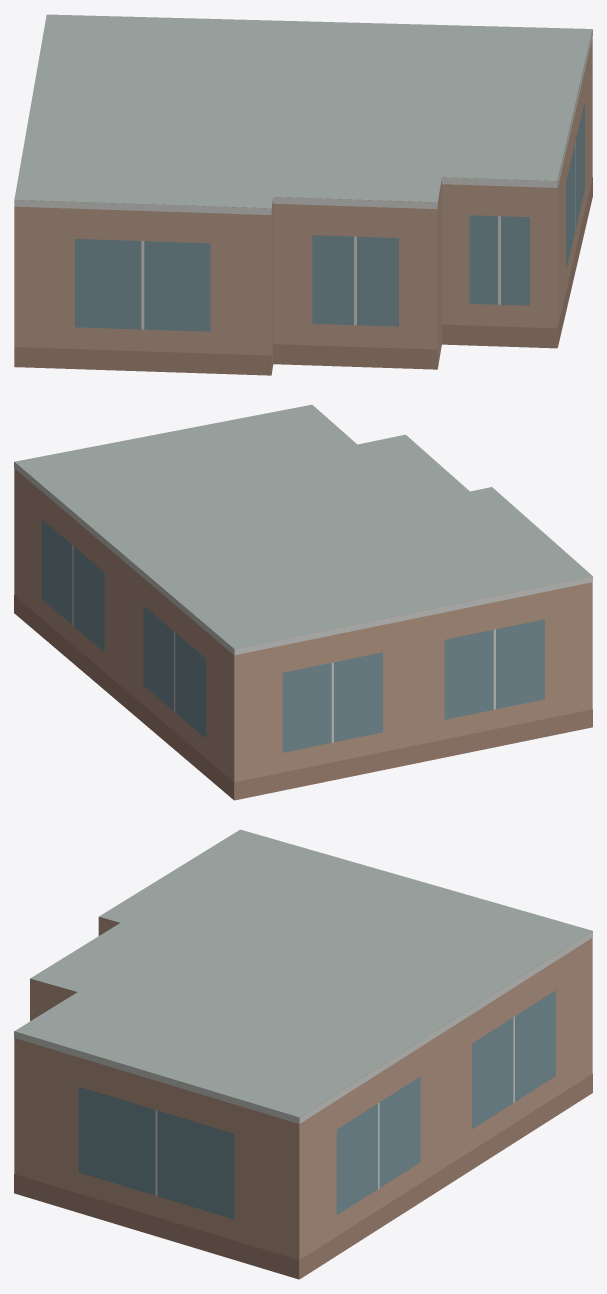
File: survey-upis-32830492.glb
3 renders of one model, top to bottom at view 1: azimuth 30°, elevation 25°; view 2: azimuth 150°, elevation 25°; view 3: azimuth 270°, elevation 25°, orthographic. The views are drawn at different scales.
Visible parts, largest first — view 1: survey-upis-32830492.tmp; view 2: survey-upis-32830492.tmp; view 3: survey-upis-32830492.tmp.
Part boxes in pixels (bbox=[...]): survey-upis-32830492.tmp: bbox=[14, 14, 592, 375]; survey-upis-32830492.tmp: bbox=[14, 404, 592, 800]; survey-upis-32830492.tmp: bbox=[14, 829, 592, 1279].
Size of the model in its own units: 11.63 by 3.05 by 9.88.
